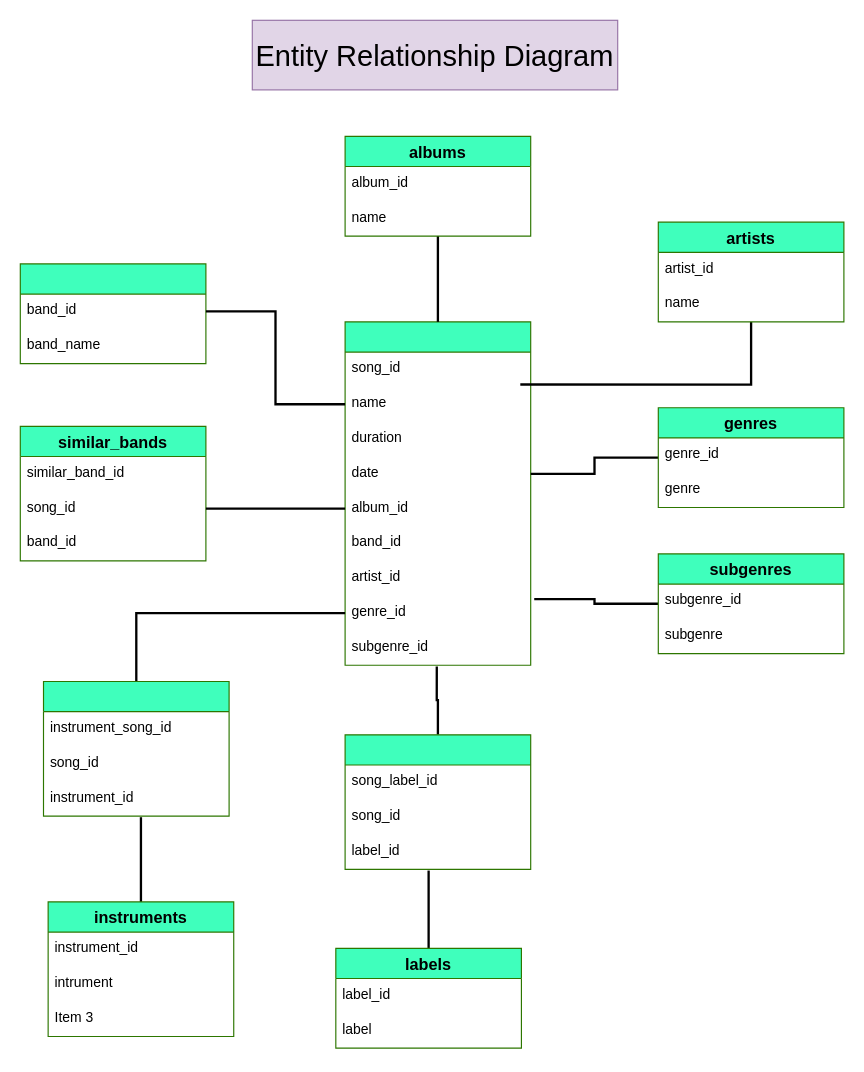
Image size: 864x1072. Some labels were removed from this diagram. Each missing label, with the box of its shape:
bands: (19, 263, 206, 364)
instruments_songs: (42, 680, 229, 816)
songs: (344, 321, 531, 665)
songs_labels: (344, 734, 531, 869)
